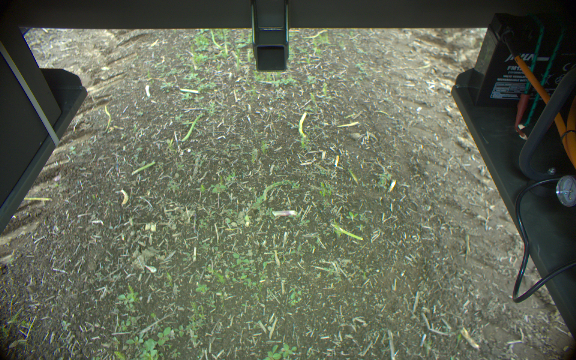aspa: (181, 111, 204, 145), (296, 111, 309, 140), (206, 30, 221, 50)
